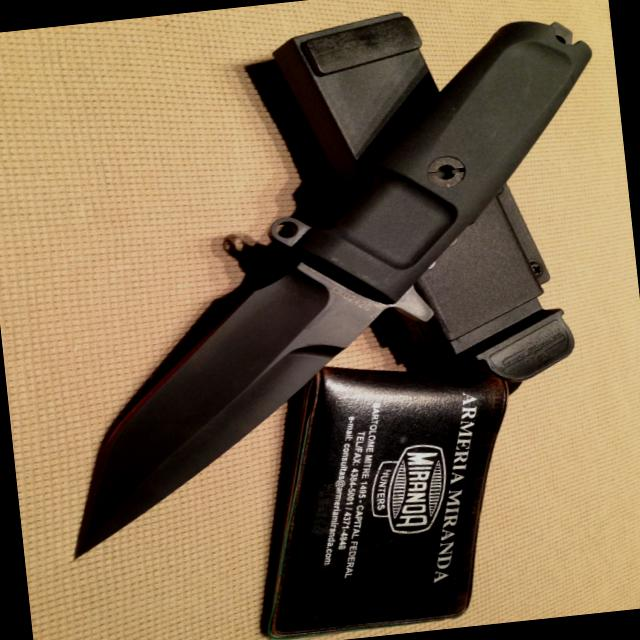knife: (36, 245, 410, 570)
